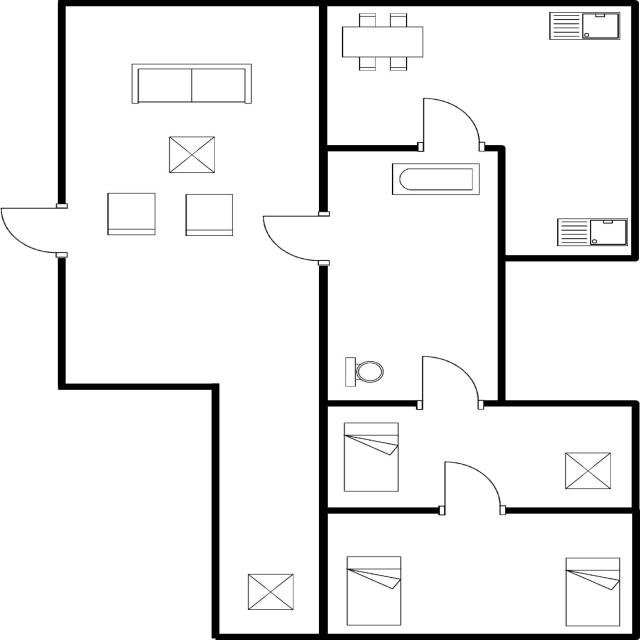bed: (338, 419, 409, 497), (340, 553, 411, 629), (559, 553, 624, 630)
coffee_table: (560, 448, 616, 498), (242, 568, 299, 614), (163, 132, 218, 179)
dining_table: (335, 9, 430, 75)
large_sink: (339, 350, 389, 390)
large_sofa: (124, 56, 261, 110)
sink: (548, 212, 628, 250), (545, 8, 626, 45)
small_sofa: (178, 189, 239, 241), (101, 189, 163, 240)
tub: (384, 157, 485, 199)
